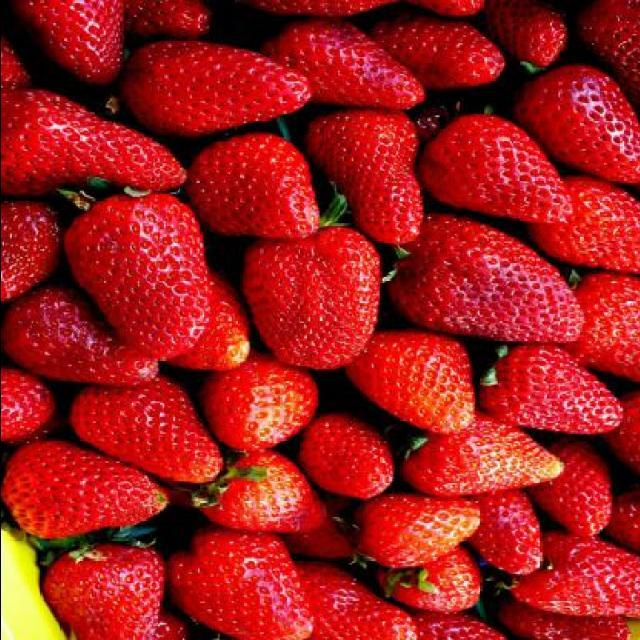Strawberry: (2, 0, 640, 638), (298, 408, 404, 504)
